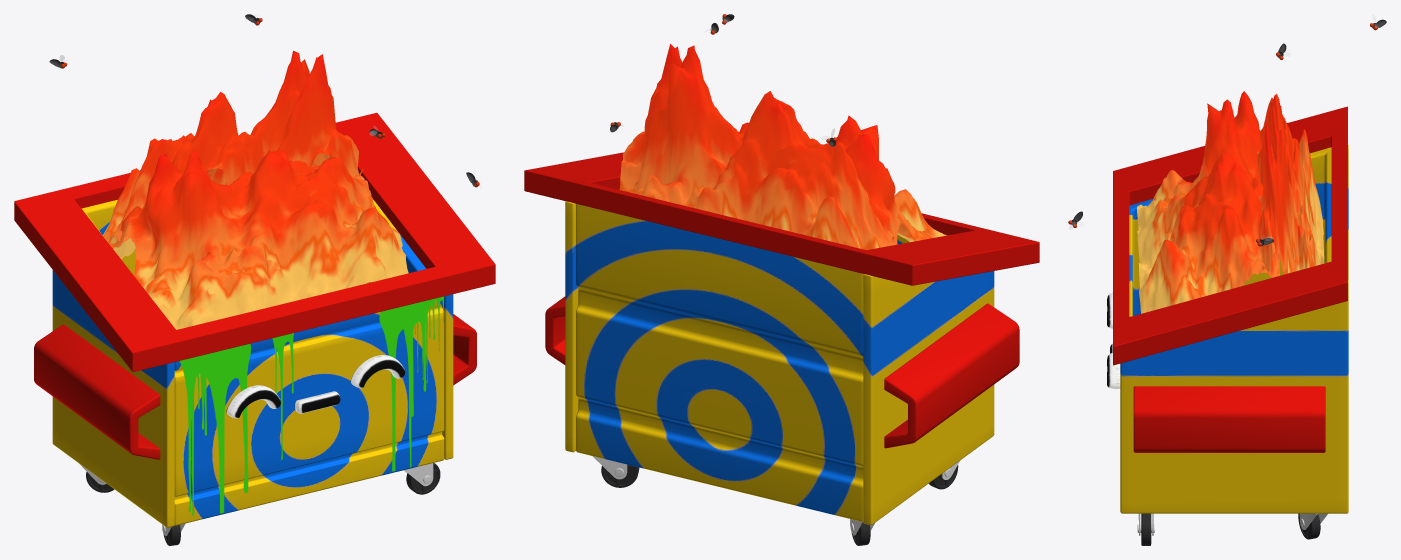
The picture shows the model from 3 angles, left to right: view 1: azimuth 30°, elevation 25°; view 2: azimuth 150°, elevation 25°; view 3: azimuth 270°, elevation 25°; orthographic projection. The views are drawn at different scales.
Parts seen in each view (by area): view 1: Dumpster Geometry, Wheel Holder; view 2: Dumpster Geometry, Wheel Holder; view 3: Dumpster Geometry, Wheel Holder.
Boxes of the visible parts, x1,y1,x2,y2 form: Dumpster Geometry: [14, 14, 495, 545]; Wheel Holder: [79, 463, 433, 536]; Dumpster Geometry: [524, 14, 1039, 545]; Wheel Holder: [592, 456, 960, 535]; Dumpster Geometry: [1068, 14, 1386, 545]; Wheel Holder: [1137, 513, 1327, 535].
Bounding box in the file's own units: 2.41 × 2.87 × 1.85.
20 materials, 5 textured.
